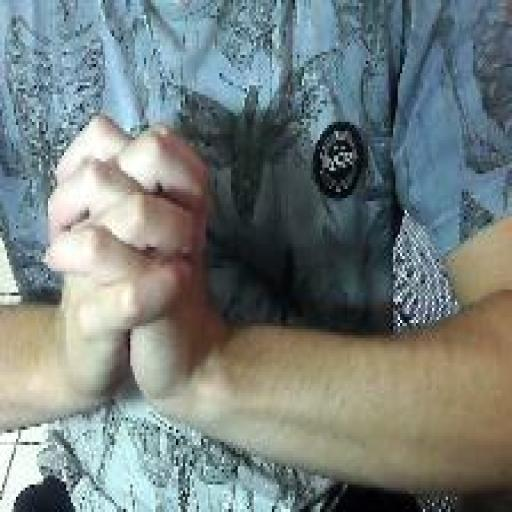Mi -snake-: (41, 104, 220, 436)
